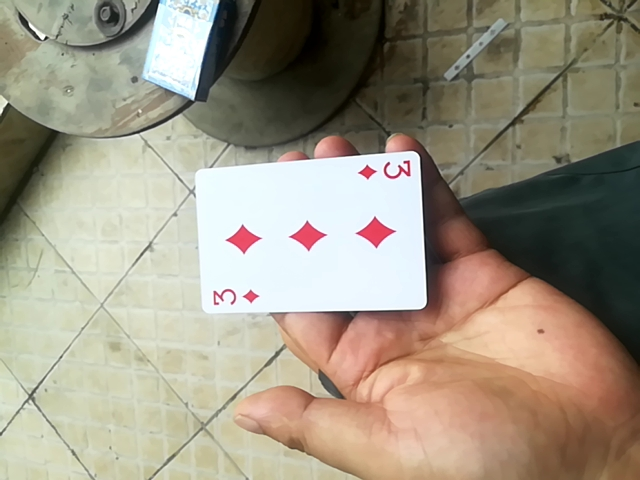fk 3: (190, 145, 432, 313)
